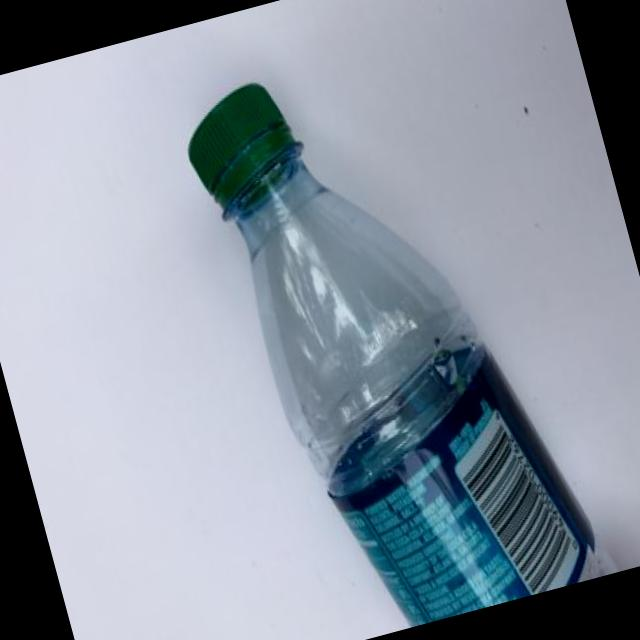Recycle: (170, 22, 613, 640)
